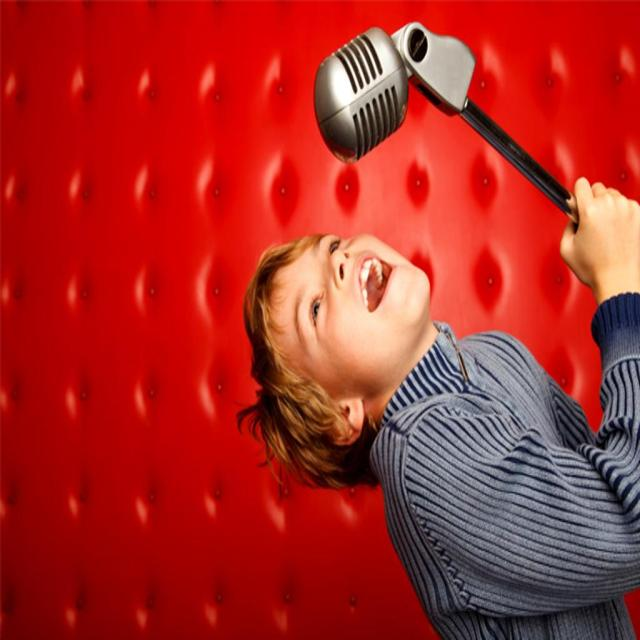Face: (271, 229, 434, 396)
